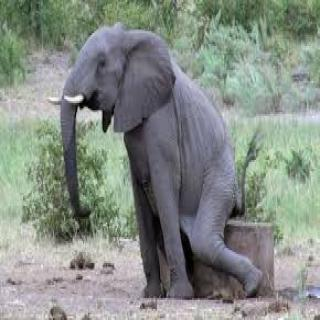Elephant: (48, 20, 266, 304)
